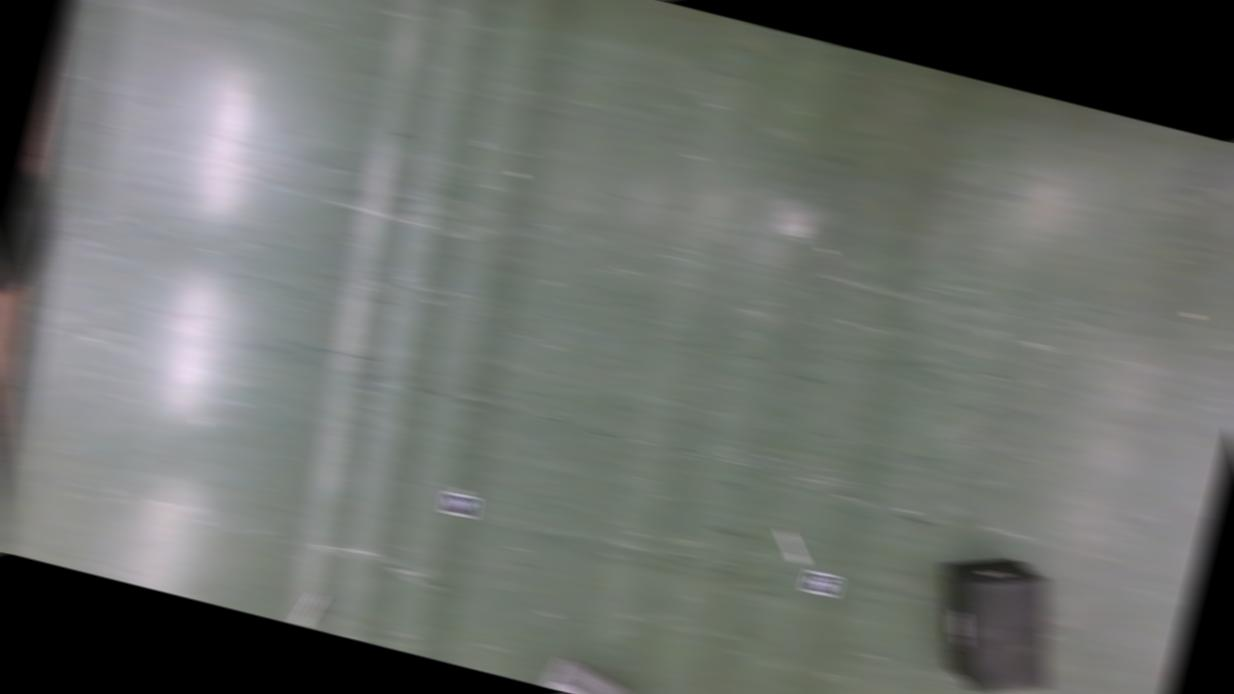probes: (774, 526, 811, 564), (292, 588, 322, 628)
rako: (913, 539, 1077, 694), (535, 651, 638, 694)
